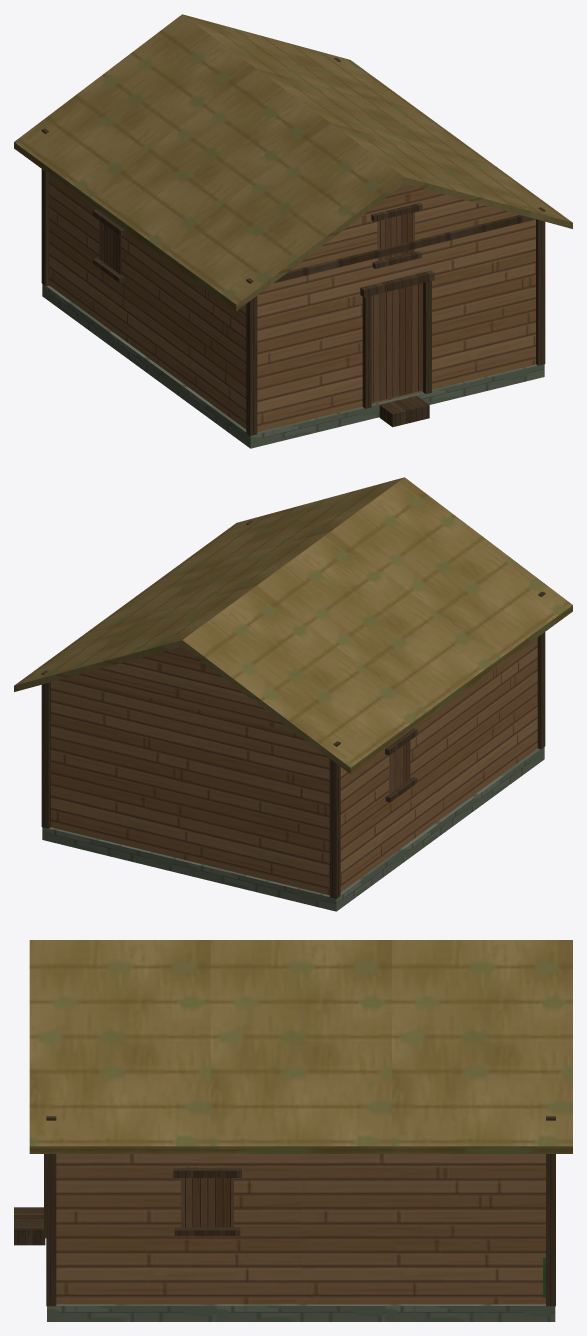
Rendered from ae_jungle_wood_large_barn_lod0.glb.
3 views of the same model, one above another, from view 1: azimuth 30°, elevation 25°; view 2: azimuth 150°, elevation 25°; view 3: azimuth 270°, elevation 25° (orthographic). The views are drawn at different scales.
Parts seen in each view (by area): view 1: ae_jungle_wood_large_barn_lod0; view 2: ae_jungle_wood_large_barn_lod0; view 3: ae_jungle_wood_large_barn_lod0.
Boxes of the visible parts, x1=… form: ae_jungle_wood_large_barn_lod0: x1=14, y1=14, x2=572, y2=448; ae_jungle_wood_large_barn_lod0: x1=14, y1=477, x2=572, y2=911; ae_jungle_wood_large_barn_lod0: x1=14, y1=940, x2=572, y2=1321.
Bounding box in the file's own units: 7.6 × 5.2 × 8.95.
1 material, 1 textured.
